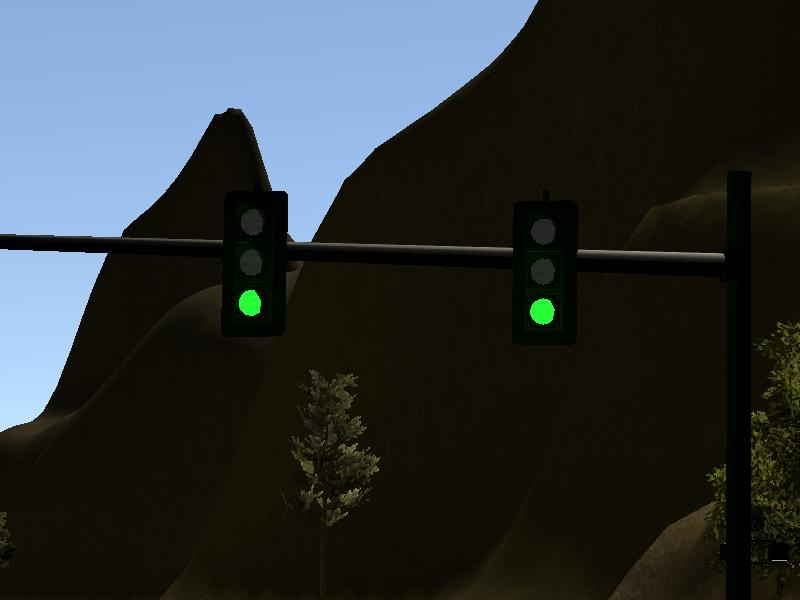GREEN: (222, 190, 288, 331), (511, 200, 577, 341)
